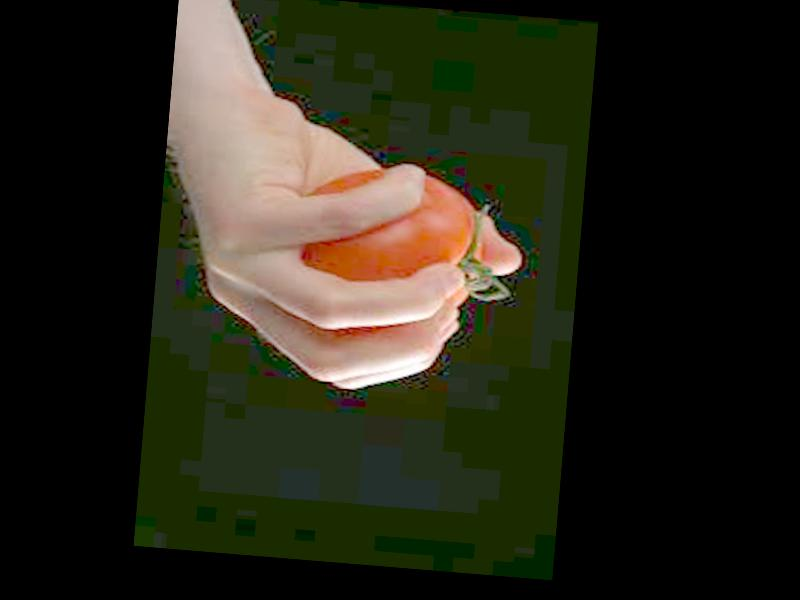Tomato: (291, 162, 479, 310)
